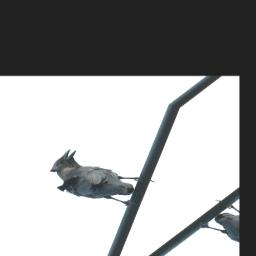Crow: (34, 146, 163, 212)
